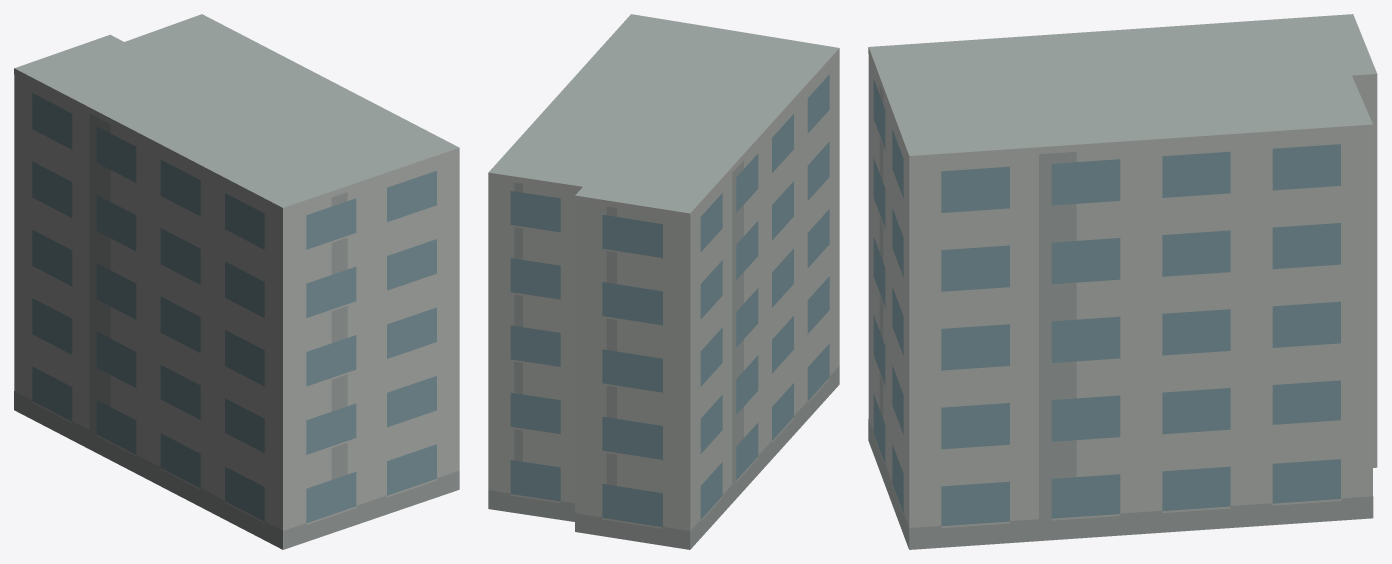
The model's file is survey-upis-32998651.glb.
3 renders of one model, left to right at view 1: azimuth 30°, elevation 25°; view 2: azimuth 150°, elevation 25°; view 3: azimuth 270°, elevation 25°, orthographic. The views are drawn at different scales.
Parts seen in each view (by area): view 1: survey-upis-32998651.tmp; view 2: survey-upis-32998651.tmp; view 3: survey-upis-32998651.tmp.
Part boxes in pixels (<box>): survey-upis-32998651.tmp: <box>14,14,459,549</box>; survey-upis-32998651.tmp: <box>488,14,839,549</box>; survey-upis-32998651.tmp: <box>868,14,1377,549</box>.
Bounding box in the file's own units: 10.53 × 13.6 × 15.94.
